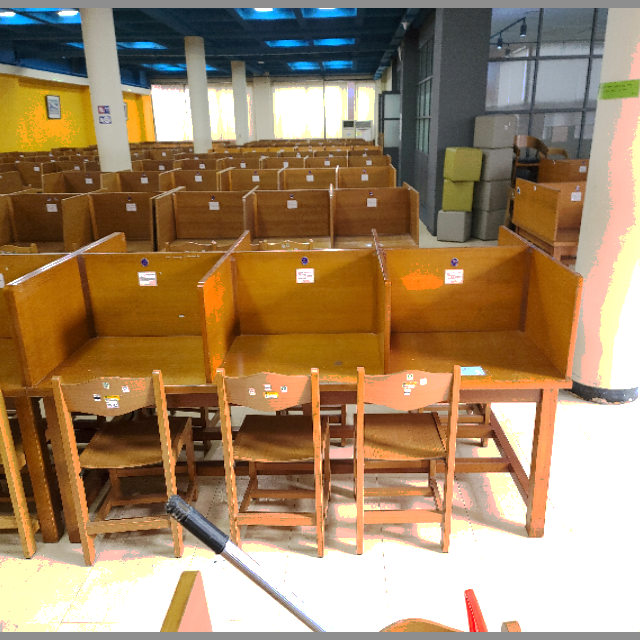empty: (398, 260, 576, 474), (15, 261, 200, 450), (214, 257, 386, 452)
